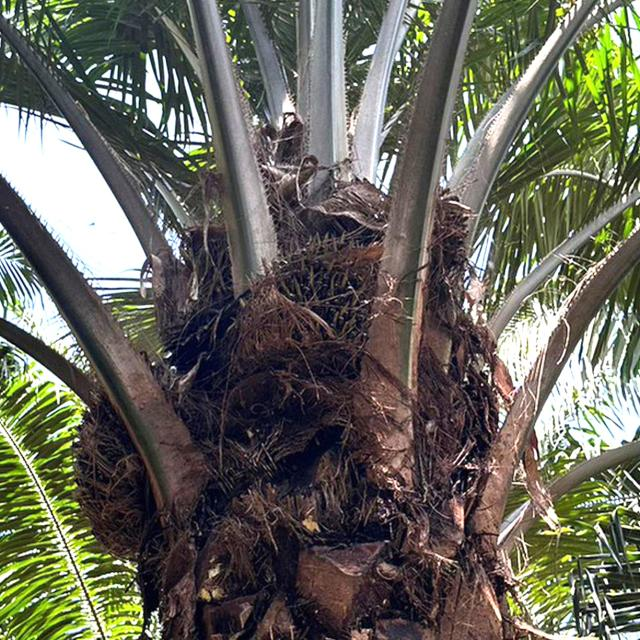unripe: (232, 231, 374, 372)
